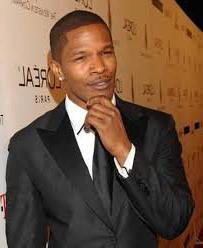Sober: (64, 27, 117, 98)
